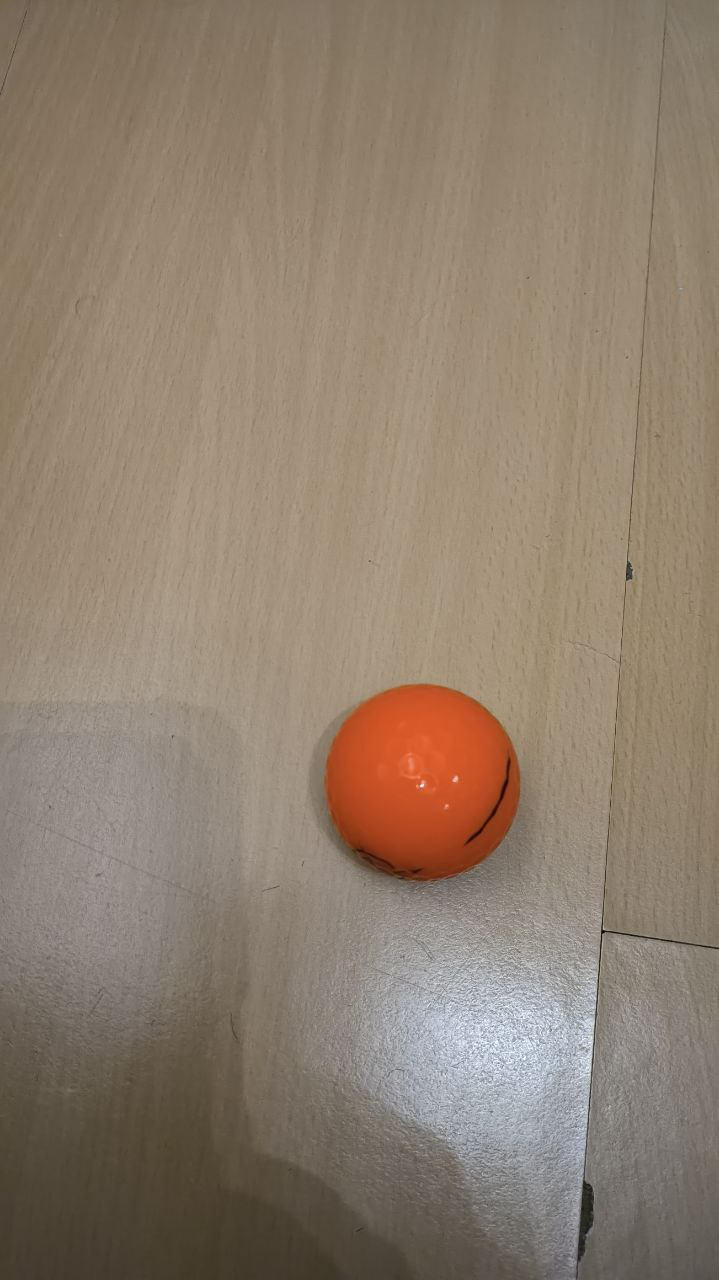orange_ball: (323, 683, 520, 882)
